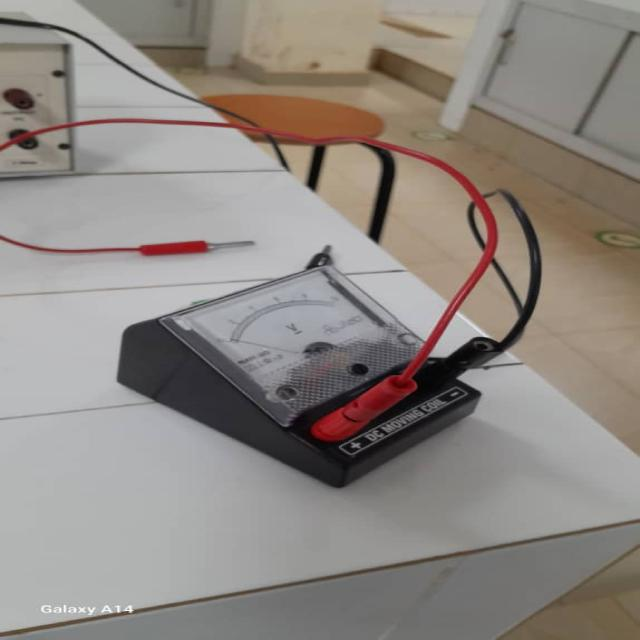Voltmeter: (116, 241, 580, 495)
